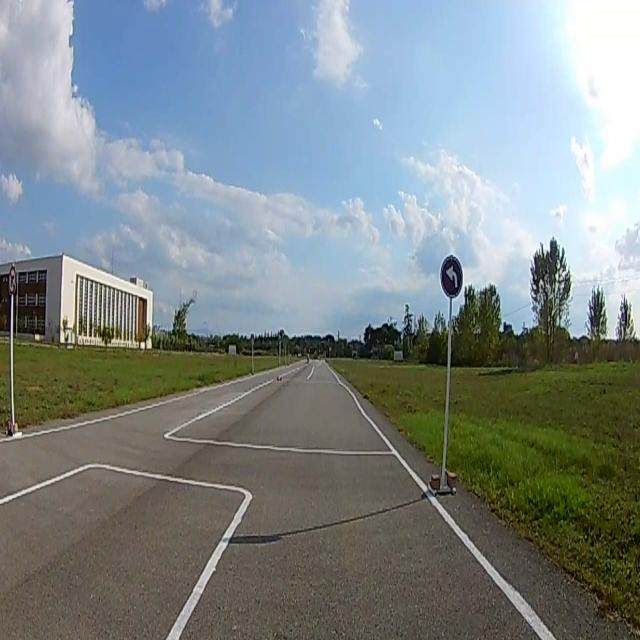sagadonulmez: (8, 268, 16, 294)
sol: (441, 257, 461, 295)
